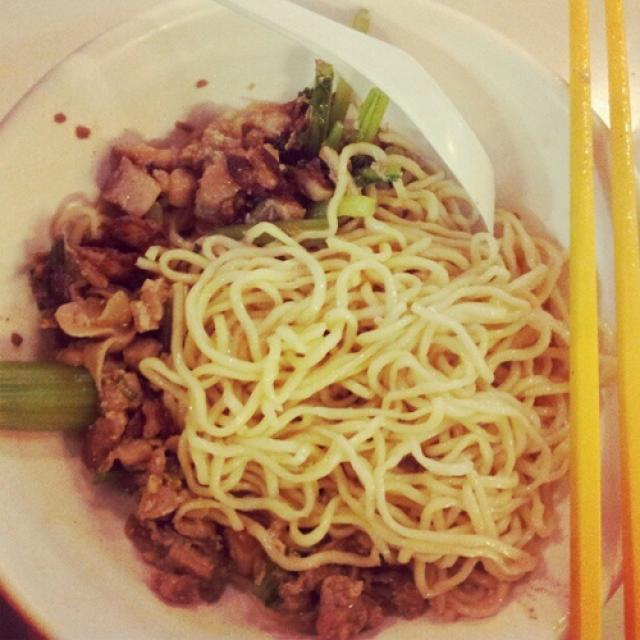面条主食: (40, 69, 531, 623)
